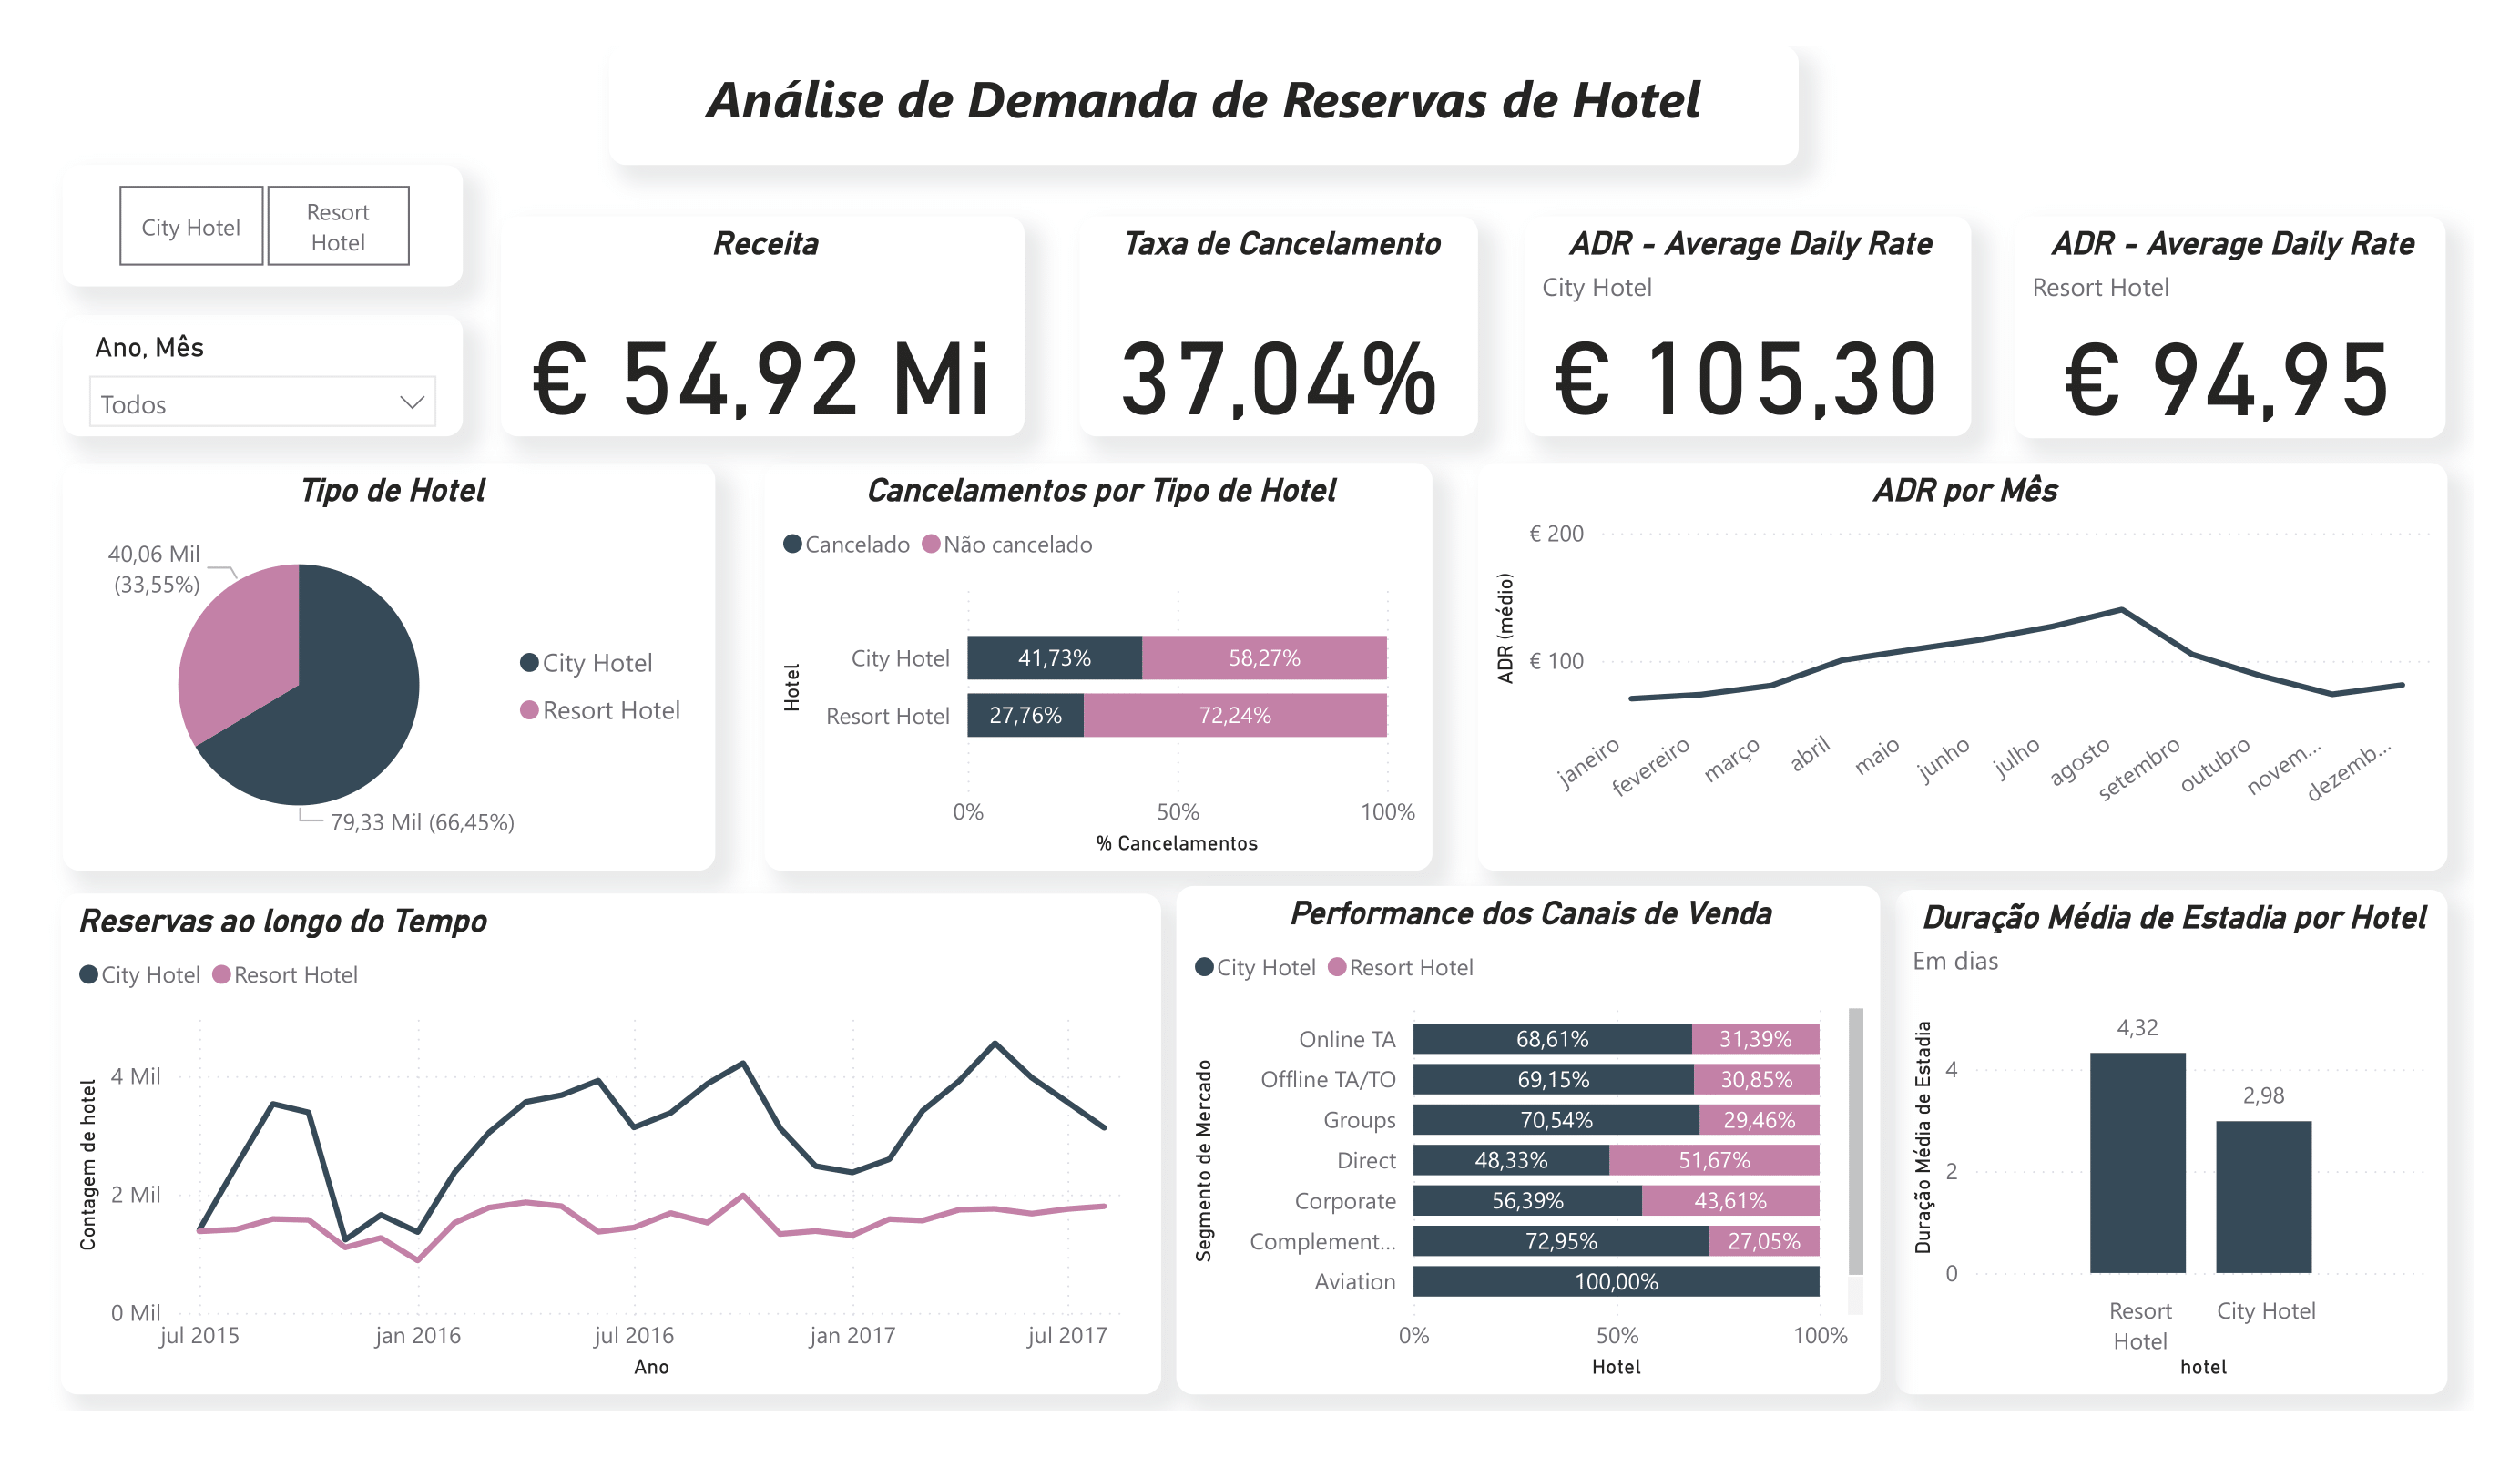

Layout of this report page (visuals, bound fields, positions):
{"tool":"powerbi","page":{"name":"Visão Geral","canvas":[1280,720],"ordinal":0},"visuals":[{"type":"pieChart","title":"Tipo de Hotel","fields":{"Category":["hotel_booking_tratado.hotel"],"Y":["CountNonNull(hotel_booking_tratado.hotel)"]},"box":[0,220,353,207],"z":0},{"type":"card","title":"Taxa de Cancelamento","fields":{"Values":["hotel_booking_tratado.Taxa_de_Cancelamento"]},"box":[520,90,211,117],"z":1000},{"type":"hundredPercentStackedBarChart","title":"Cancelamentos por Tipo de Hotel","fields":{"Category":["hotel_booking_tratado.hotel"],"Series":["hotel_booking_tratado.is_canceled"],"Y":["CountNonNull(hotel_booking_tratado.is_canceled)"]},"box":[379,220,352,215],"z":2000},{"type":"card","title":"Receita ","fields":{"Values":["Sum(hotel_booking_tratado.Receita)"]},"box":[227,90,259,110],"z":3000},{"type":"card","title":"ADR - Average Daily Rate ","fields":{"Values":["Avg(hotel_booking_tratado.adr)"]},"box":[763,90,219,117],"z":4000},{"type":"card","title":"ADR - Average Daily Rate ","fields":{"Values":["Avg(hotel_booking_tratado.adr)"]},"box":[1028,90,227,117],"z":5000},{"type":"slicer","fields":{"Values":["hotel_booking_tratado.arrival_date.Variation.Hierarquia de datas.Ano","hotel_booking_tratado.arrival_date.Variation.Hierarquia de datas.Mês"]},"box":[0,141.5,220,65.4],"z":6000},{"type":"lineChart","title":"Reservas ao longo do Tempo","fields":{"Y":["CountNonNull(hotel_booking_tratado.hotel)"],"Category":["hotel_booking_tratado.arrival_date.Variation.Hierarquia de datas.Ano","hotel_booking_tratado.arrival_date.Variation.Hierarquia de datas.Mês"],"Series":["hotel_booking_tratado.hotel"]},"box":[0,447,588,264],"z":7000},{"type":"lineChart","title":"ADR por Mês","fields":{"Y":["Avg(hotel_booking_tratado.adr)"],"Category":["hotel_booking_tratado.arrival_date.Variation.Hierarquia de datas.Mês"]},"box":[755,220,525,215],"z":8000},{"type":"columnChart","title":"Média de Duração Estadia por Hotel","fields":{"Y":["Avg(hotel_booking_tratado.Duração Estadia)"],"Category":["hotel_booking_tratado.hotel"]},"box":[974.4,444.4,305.6,275.6],"z":9000},{"type":"hundredPercentStackedBarChart","title":"Performance dos Canais de Venda","fields":{"Category":["hotel_booking_tratado.market_segment"],"Y":["CountNonNull(hotel_booking_tratado.hotel)"],"Series":["hotel_booking_tratado.hotel"]},"box":[604,444,351,276],"z":10000},{"type":"textbox","box":[296.7,0,627.8,63.3],"z":11000},{"type":"slicer","fields":{"Values":["hotel_booking_tratado.hotel"]},"box":[0,90,220,50],"z":12000}]}

Visuals, with their boxes in screenshot pixels (x1, y1, x2, y2):
"Tipo de Hotel" pieChart: <region>46, 463, 716, 856</region>
"Taxa de Cancelamento" card: <region>1032, 217, 1433, 438</region>
"Cancelamentos por Tipo de Hotel" hundredPercentStackedBarChart: <region>765, 463, 1433, 871</region>
"Receita " card: <region>476, 217, 968, 425</region>
"ADR - Average Daily Rate " card: <region>1494, 217, 1909, 438</region>
"ADR - Average Daily Rate " card: <region>1996, 217, 2427, 438</region>
slicer - hotel_booking_tratado.arrival_date.Variation.Hierarquia de datas.Ano x hotel_booking_tratado.arrival_date.Variation.Hierarquia de datas.Mês: <region>46, 314, 463, 438</region>
"Reservas ao longo do Tempo" lineChart: <region>46, 893, 1161, 1394</region>
"ADR por Mês" lineChart: <region>1478, 463, 2474, 871</region>
"Média de Duração Estadia por Hotel" columnChart: <region>1894, 889, 2474, 1411</region>
"Performance dos Canais de Venda" hundredPercentStackedBarChart: <region>1191, 888, 1858, 1411</region>
textbox: <region>608, 46, 1800, 166</region>
slicer - hotel_booking_tratado.hotel: <region>46, 217, 463, 311</region>
